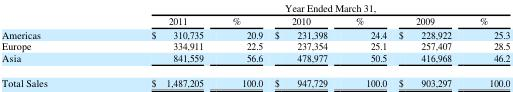table: (0, 0, 509, 88)
table column: (98, 0, 217, 88), (0, 0, 98, 88), (268, 0, 341, 88), (392, 0, 465, 88), (217, 0, 268, 88), (341, 0, 392, 88), (465, 0, 509, 88)
table column header: (0, 0, 509, 27)
table row: (0, 69, 509, 88), (0, 51, 509, 69), (0, 13, 509, 27), (0, 0, 509, 13), (0, 27, 509, 39), (0, 39, 509, 51)
table spanning cell: (98, 0, 509, 13)
